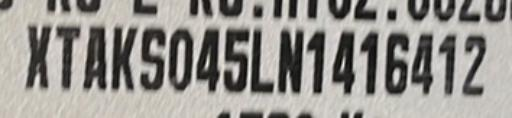letter: (23, 23, 53, 89), (221, 26, 251, 92), (329, 28, 359, 94), (54, 23, 82, 91), (194, 26, 222, 94), (276, 27, 304, 95), (110, 24, 138, 90), (139, 26, 167, 92), (166, 27, 194, 91), (248, 29, 276, 93), (409, 31, 437, 95), (460, 32, 488, 96), (82, 24, 108, 90), (384, 31, 410, 96), (304, 27, 328, 95), (357, 29, 381, 97), (434, 33, 458, 95)
